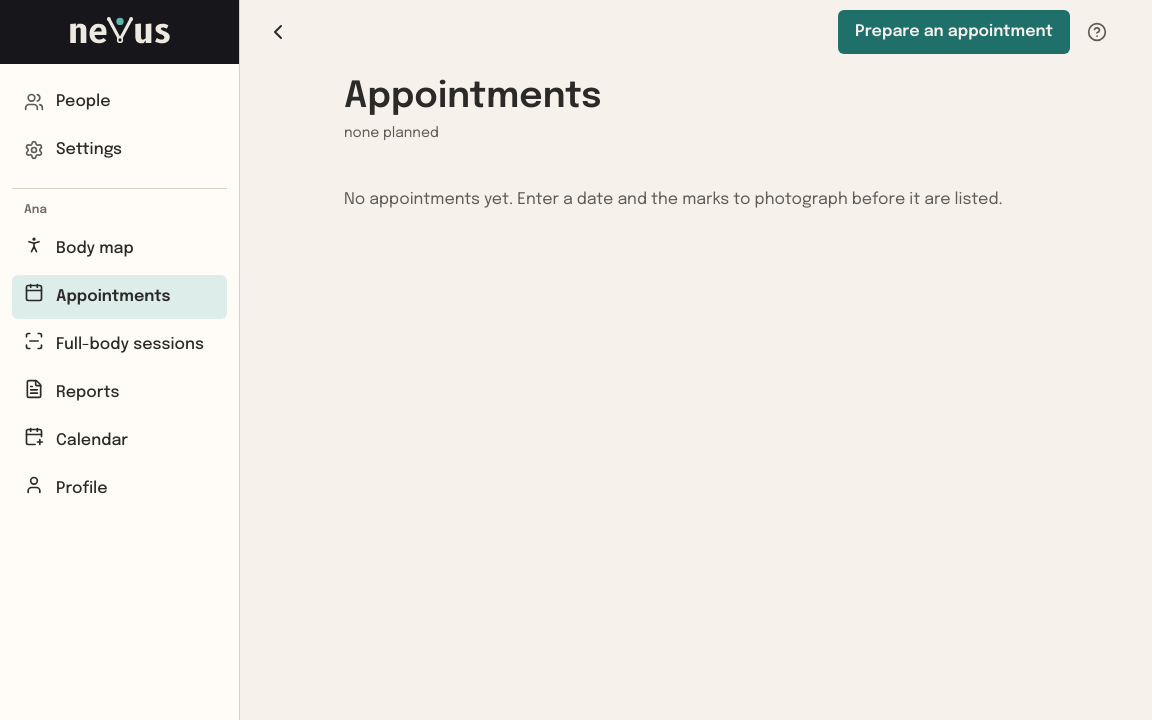
Test: preparing an appointment › plans one from the person's page and lists what to photograph
Click the button "Prepare an appointment".
click(954, 32)  # box [838,10,1070,54]
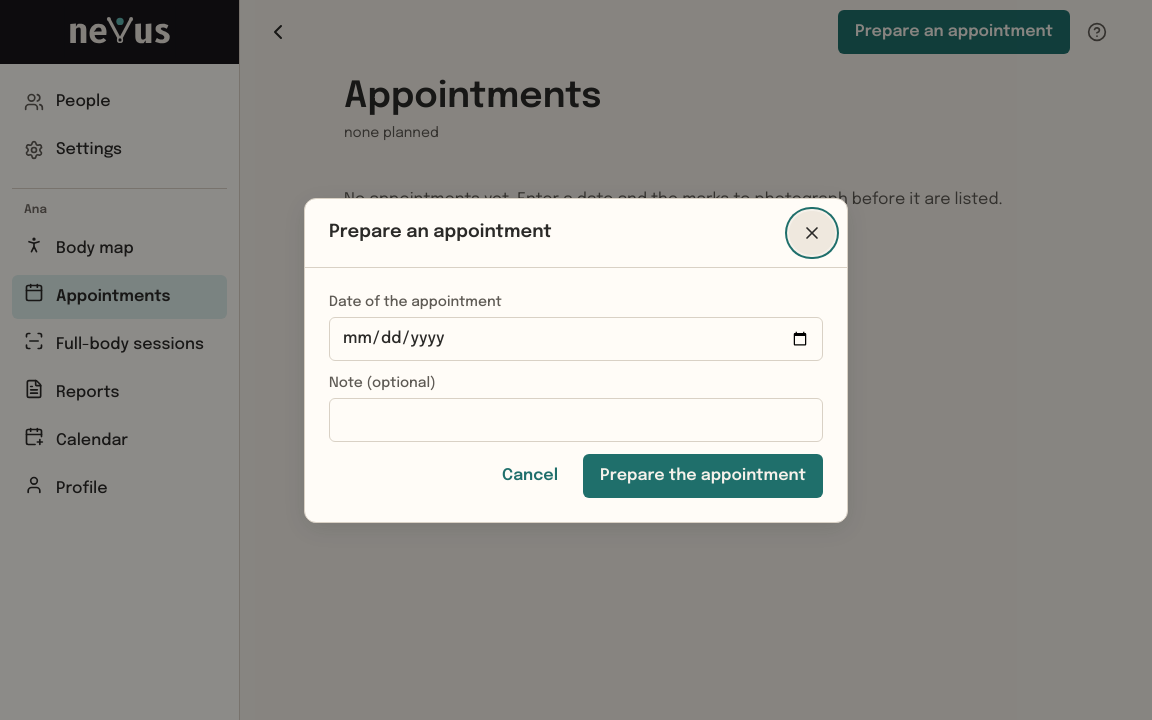
Type "2026-10-20" into the date field labelled "Date of the appointment".
click(576, 338); type("2026-10-20")  # box [329,316,823,360]
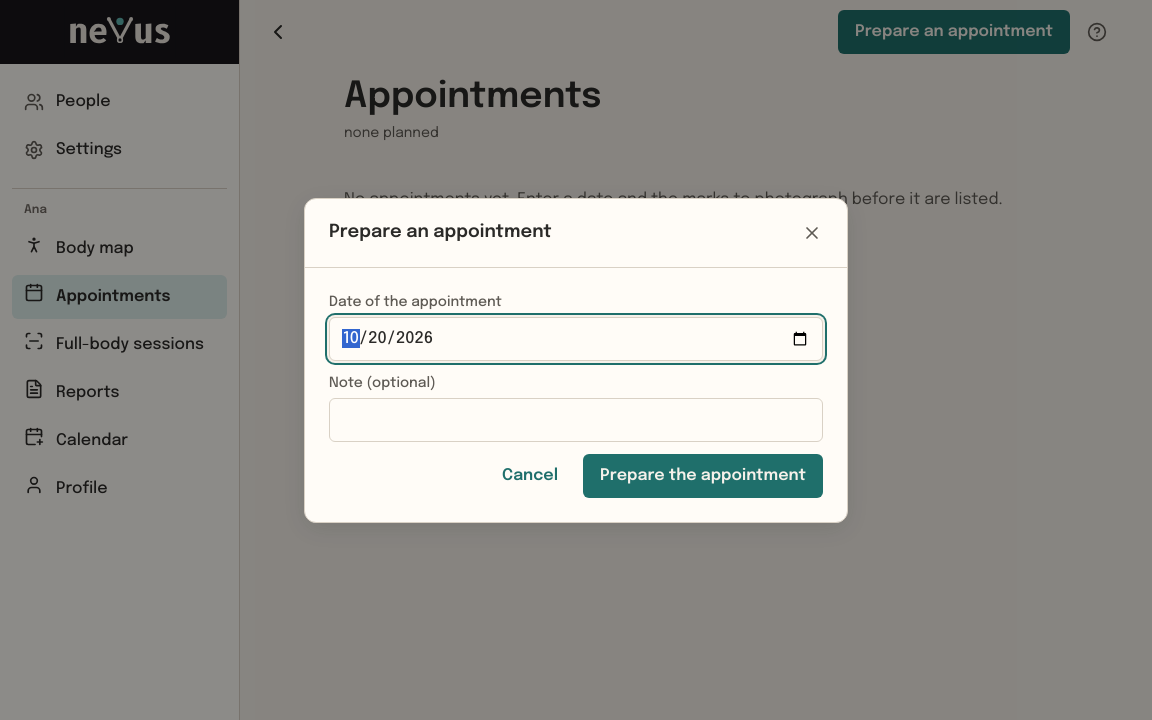
Type "Dermatology" into the field labelled "Note (optional)".
click(576, 420); type("Dermatology")  # box [329,398,823,442]
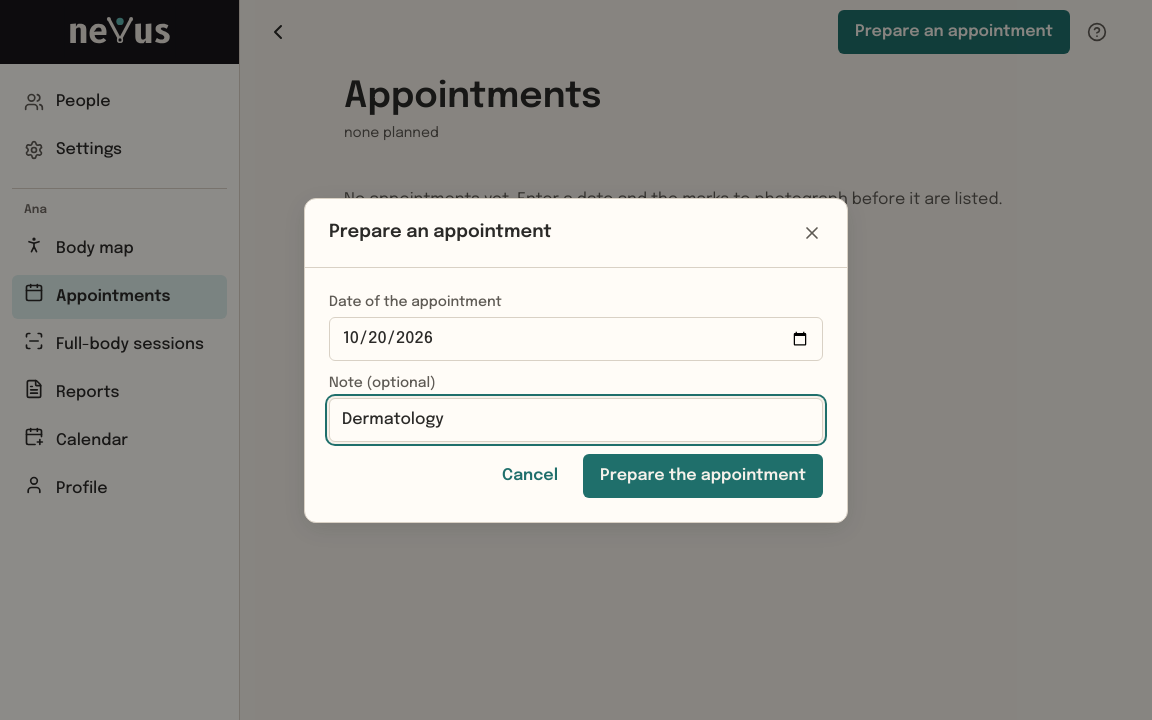
Click the button "Prepare the appointment".
click(703, 476)  # box [583,454,823,498]
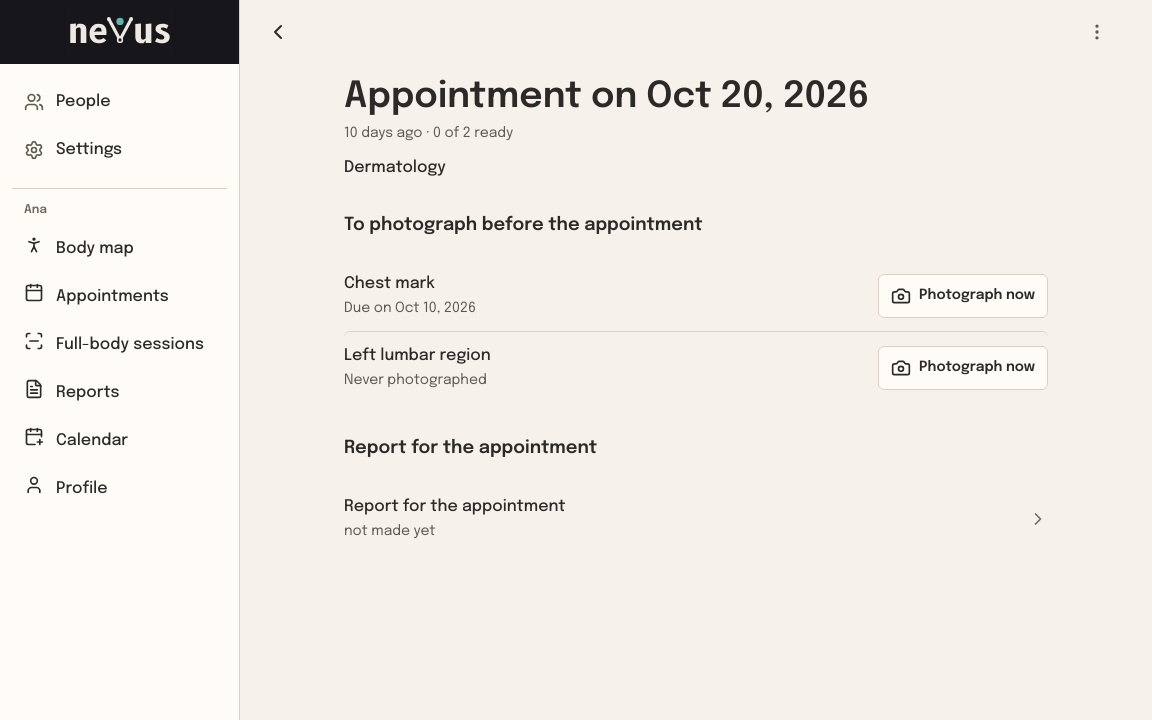
Now the heading "Appointment on Oct 20, 2026" is shown, box [344,79,870,115]
Now the text "Dermatology" is shown, box [344,159,446,176]
Now the link "Chest mark Due on Oct 10, 2026" is shown, box [344,275,476,315]
